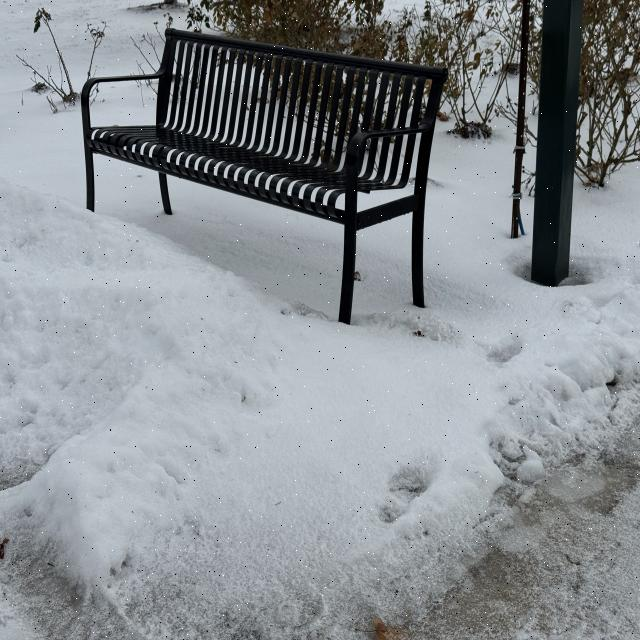Bench: (82, 22, 447, 322)
